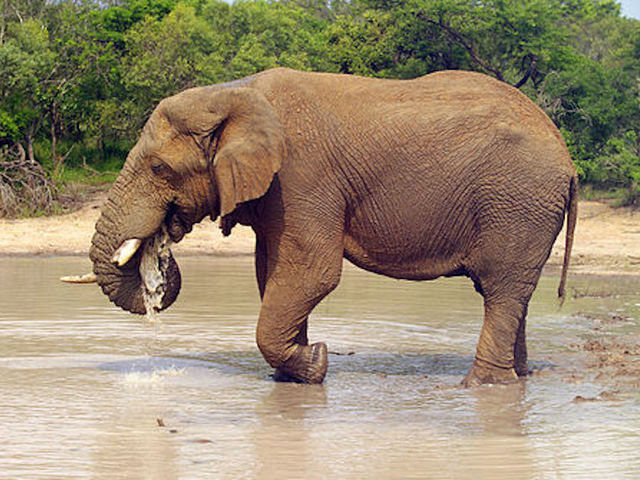elephant: (59, 49, 585, 390)
